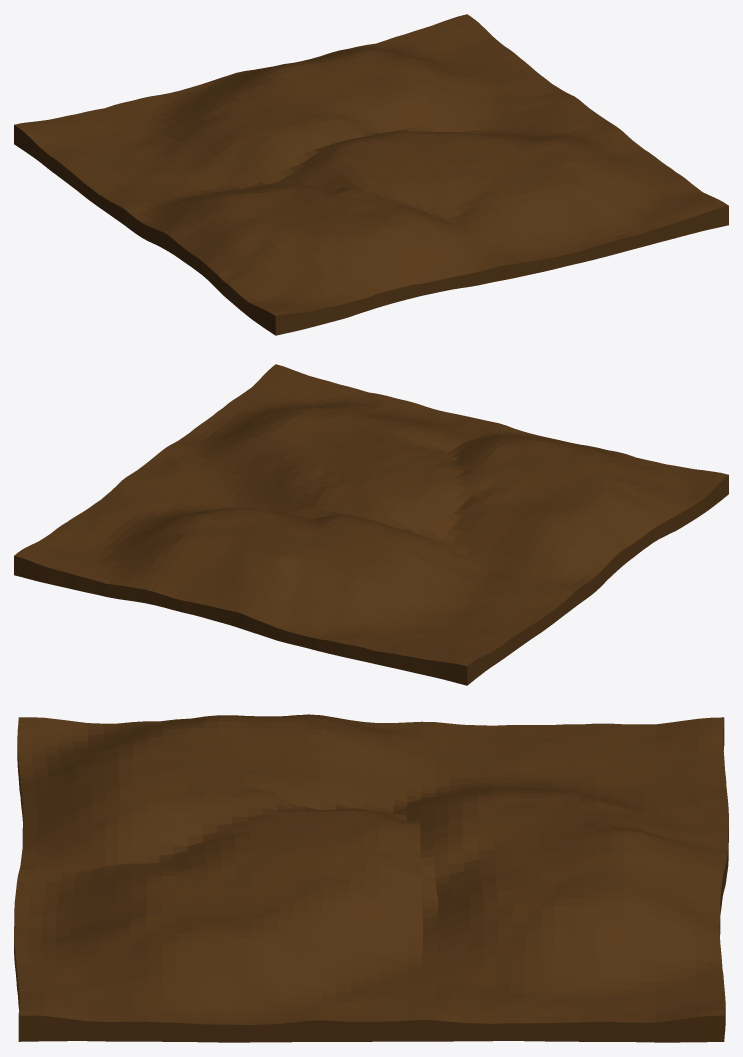
The picture shows the model from 3 angles, top to bottom: view 1: azimuth 30°, elevation 25°; view 2: azimuth 150°, elevation 25°; view 3: azimuth 270°, elevation 25°; orthographic projection. The views are drawn at different scales.
Parts seen in each view (by area): view 1: J-10; view 2: J-10; view 3: J-10.
Part boxes in pixels (<box>): J-10: <box>14,14,728,335</box>; J-10: <box>14,364,728,685</box>; J-10: <box>14,714,728,1042</box>.
Size of the model in its own units: 7070 by 679 by 7129.
